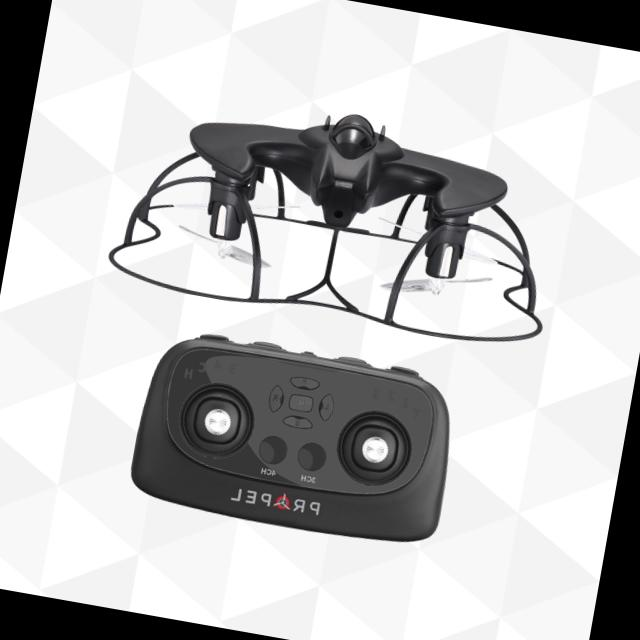drone: (103, 99, 572, 354)
